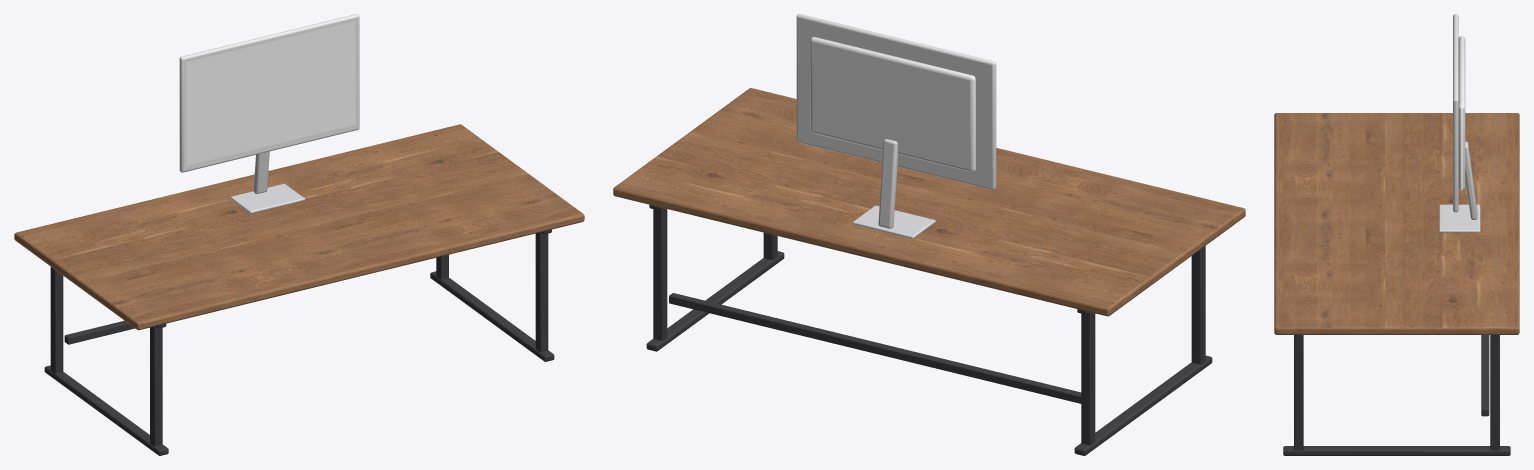
The model's file is desk.glb.
3 renders of one model, left to right at view 1: azimuth 30°, elevation 25°; view 2: azimuth 150°, elevation 25°; view 3: azimuth 270°, elevation 25°, orthographic. The views are drawn at different scales.
Visible parts, largest first — view 1: oak_wood_planks, screen, powder_steel, monitor_bezel, aluminium; view 2: oak_wood_planks, monitor_back, powder_steel, monitor_bezel, aluminium; view 3: oak_wood_planks, powder_steel, aluminium, monitor_back, monitor_bezel.
Part boxes in pixels (<box>): oak_wood_planks: <box>14,124,584,330</box>; screen: <box>186,21,355,165</box>; powder_steel: <box>44,229,554,455</box>; monitor_bezel: <box>179,14,359,172</box>; aluminium: <box>230,151,305,213</box>; oak_wood_planks: <box>613,88,1245,316</box>; monitor_back: <box>810,37,975,171</box>; powder_steel: <box>646,204,1212,455</box>; monitor_bezel: <box>796,14,996,189</box>; aluminium: <box>852,139,935,238</box>; oak_wood_planks: <box>1274,113,1519,334</box>; powder_steel: <box>1283,335,1510,455</box>; aluminium: <box>1439,141,1480,232</box>; monitor_back: <box>1458,36,1465,190</box>; monitor_bezel: <box>1453,14,1458,212</box>.
Bounding box in the file's own units: 2.6 × 1.72 × 1.25.
6 materials, 1 textured.
